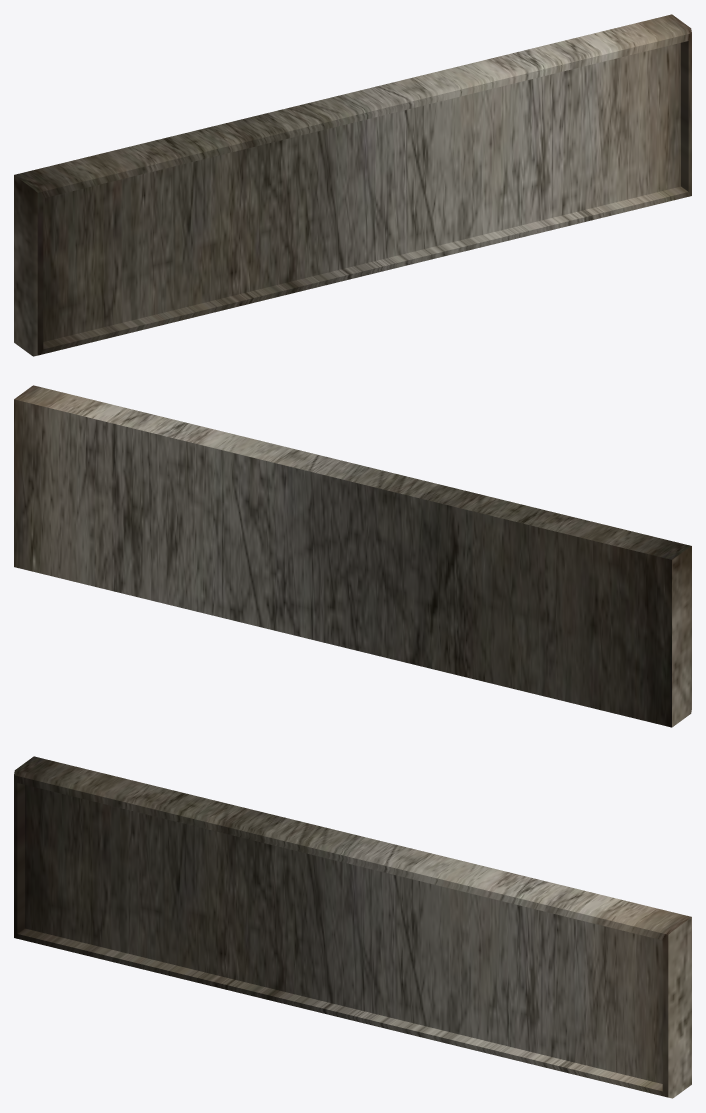
The model's file is bloque_clave_3v2.fbx.
3 renders of one model, top to bottom at view 1: azimuth 30°, elevation 25°; view 2: azimuth 150°, elevation 25°; view 3: azimuth 330°, elevation 25°, orthographic.
Parts seen in each view (by area): view 1: bloque_clave_3; view 2: bloque_clave_3; view 3: bloque_clave_3.
Boxes of the visible parts, <box> form: bloque_clave_3: <box>14,14,691,356</box>; bloque_clave_3: <box>14,385,691,727</box>; bloque_clave_3: <box>14,756,691,1098</box>.
Bounding box in the file's own units: 103 × 25.05 × 6.18.
